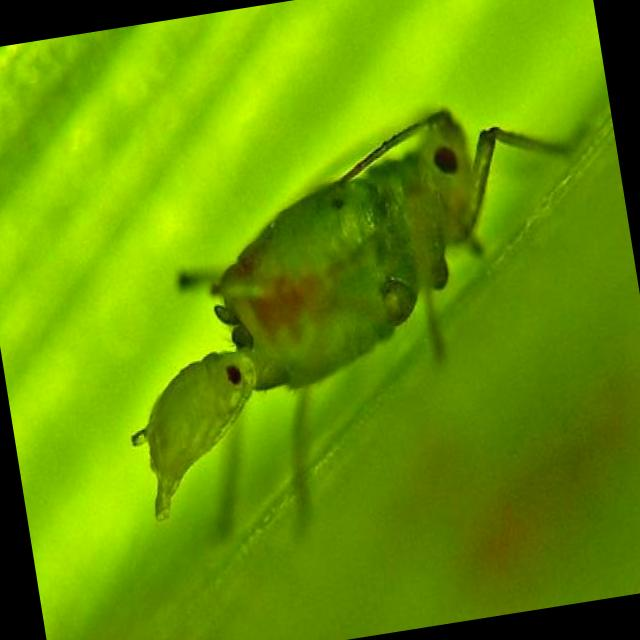Aphids: (180, 88, 589, 440), (88, 326, 302, 552)
